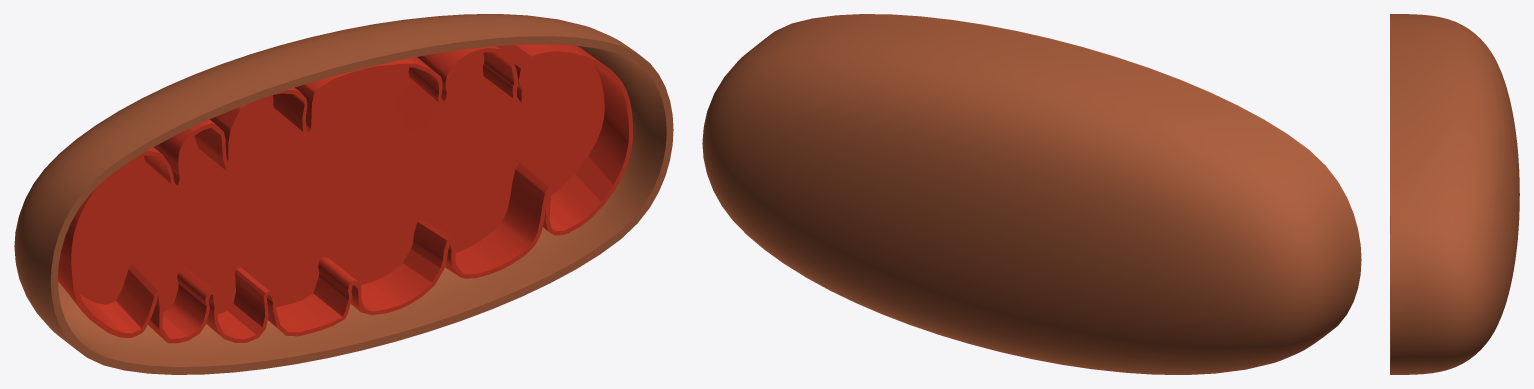
Rendered from mitochondria_v014.glb.
The picture shows the model from 3 angles, left to right: view 1: azimuth 30°, elevation 25°; view 2: azimuth 150°, elevation 25°; view 3: azimuth 270°, elevation 25°; orthographic projection. The views are drawn at different scales.
Visible parts, largest first — view 1: polySurface3, polySurface4; view 2: polySurface4; view 3: polySurface4.
Part boxes in pixels (x1,y1,x2,y2): polySurface3: [58, 44, 632, 343]; polySurface4: [14, 14, 673, 374]; polySurface4: [702, 14, 1361, 374]; polySurface4: [1390, 14, 1519, 374].
Bounding box in the file's own units: 15.81 × 7.02 × 3.52.
